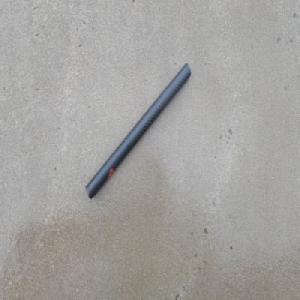LuggagePart: (84, 62, 191, 201)
